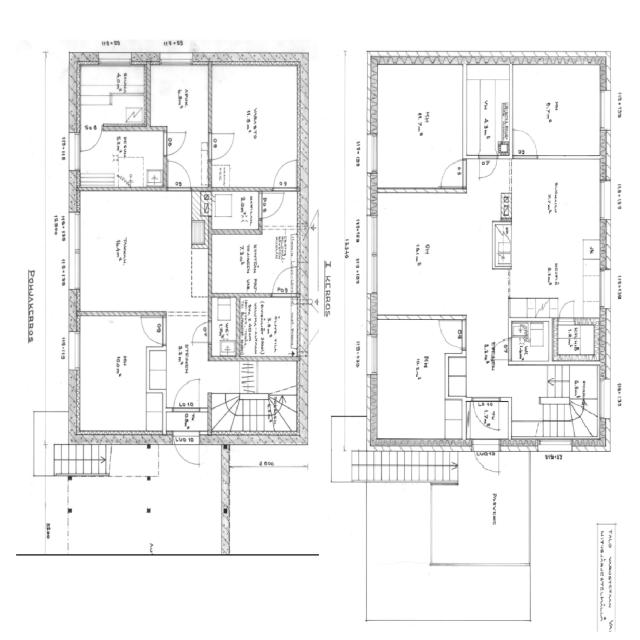door: (207, 64, 298, 189), (264, 165, 298, 218), (170, 374, 204, 412), (437, 155, 468, 193), (269, 261, 300, 297), (472, 436, 501, 474), (436, 316, 466, 352), (138, 313, 168, 347), (510, 124, 540, 158), (208, 128, 238, 162), (172, 433, 200, 468), (166, 156, 193, 192), (270, 157, 299, 190), (259, 188, 286, 222), (77, 122, 105, 154), (470, 395, 498, 427), (162, 126, 188, 158), (477, 151, 499, 182), (189, 318, 211, 345), (556, 296, 578, 322)
window: (363, 206, 383, 300), (65, 202, 86, 286), (360, 323, 380, 379), (382, 182, 438, 200), (596, 174, 614, 224), (534, 438, 581, 457), (596, 81, 613, 133), (66, 324, 83, 376), (362, 130, 381, 176), (532, 150, 599, 163), (383, 309, 431, 326), (597, 261, 613, 310), (156, 51, 195, 68)
zone: (73, 187, 206, 315), (501, 157, 605, 318), (370, 190, 492, 319), (66, 457, 224, 555), (369, 54, 466, 191), (369, 317, 467, 446), (207, 61, 300, 191), (73, 312, 166, 439), (510, 57, 604, 159), (207, 228, 298, 295), (76, 125, 165, 190), (72, 59, 150, 128), (463, 55, 514, 158), (235, 293, 301, 359), (147, 61, 212, 127), (209, 188, 262, 232), (552, 316, 602, 362), (208, 293, 238, 361), (510, 317, 552, 364), (260, 188, 290, 229)
